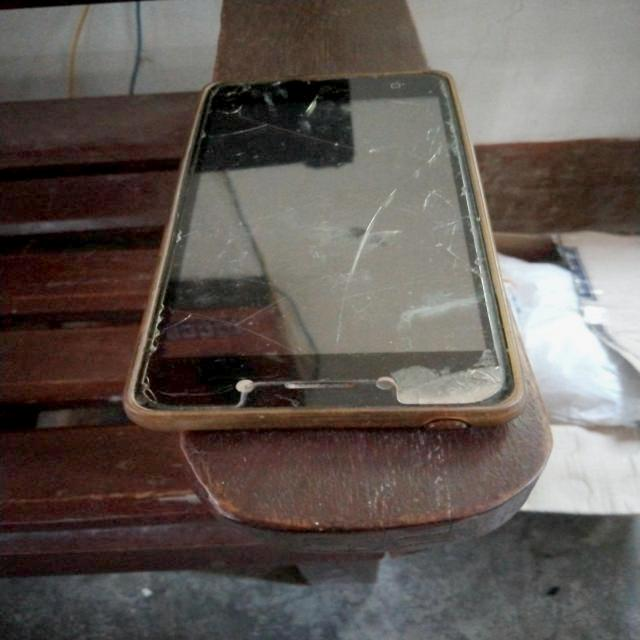phone: (116, 61, 523, 434)
